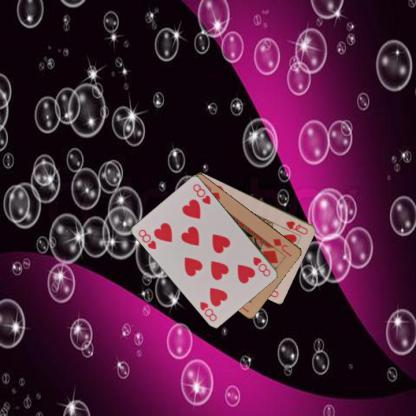8h: (136, 226, 158, 251), (251, 254, 272, 278)
Jd: (270, 236, 293, 258)
Qh: (283, 218, 310, 236)
